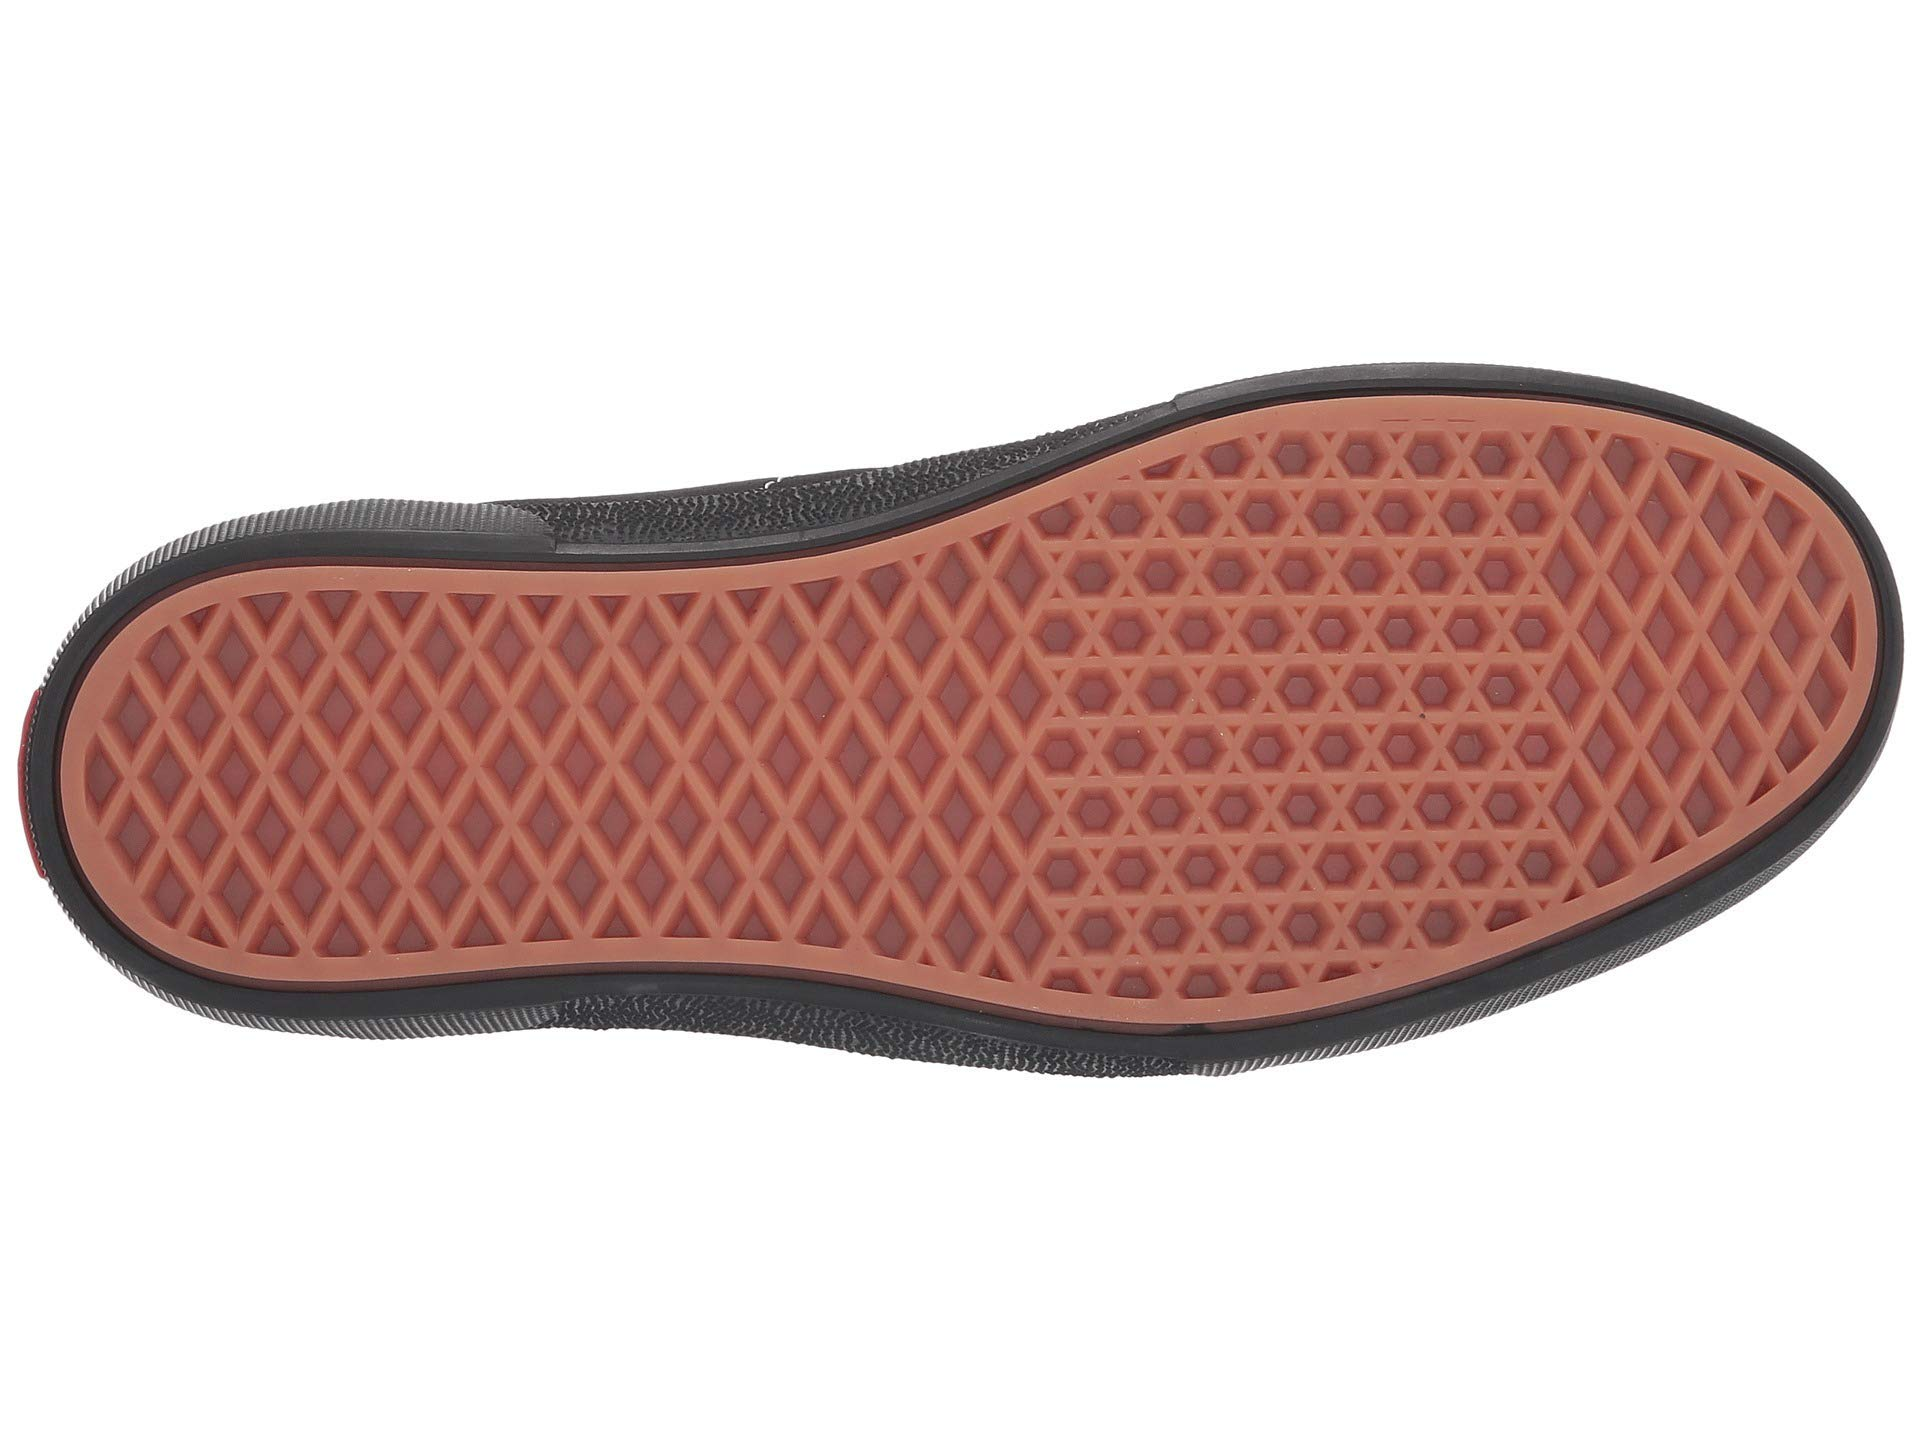polygon: (1141, 507, 1457, 862)
quad: (169, 623, 1028, 905), (1711, 504, 1872, 714)
triangle: (1141, 507, 1457, 862), (1711, 504, 1872, 714)
